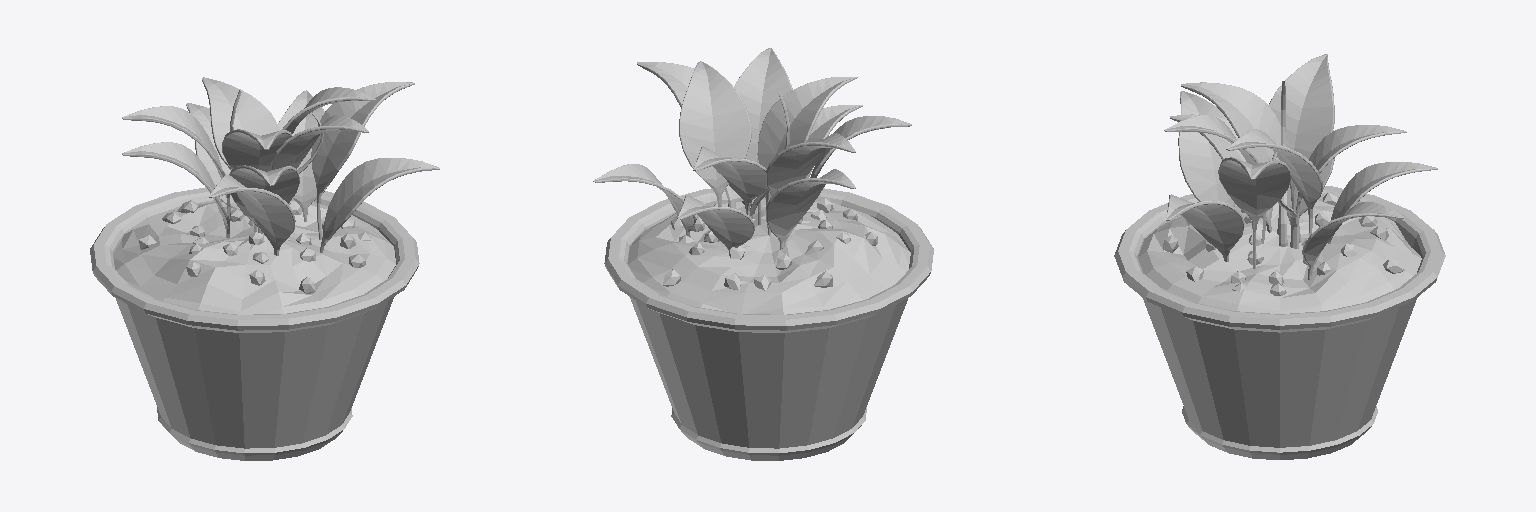
The model's file is Gamla2.obj.
The picture shows the model from 3 angles: view 1: azimuth 30°, elevation 25°; view 2: azimuth 150°, elevation 25°; view 3: azimuth 270°, elevation 25°; orthographic projection.
Parts seen in each view (by area): view 1: polySurface7880; view 2: polySurface7880; view 3: polySurface7880.
Part boxes in pixels (bbox=[...]): polySurface7880: bbox=[90, 77, 439, 460]; polySurface7880: bbox=[593, 48, 933, 460]; polySurface7880: bbox=[1114, 54, 1445, 459].
Size of the model in its own units: 13.14 by 14.56 by 13.02.